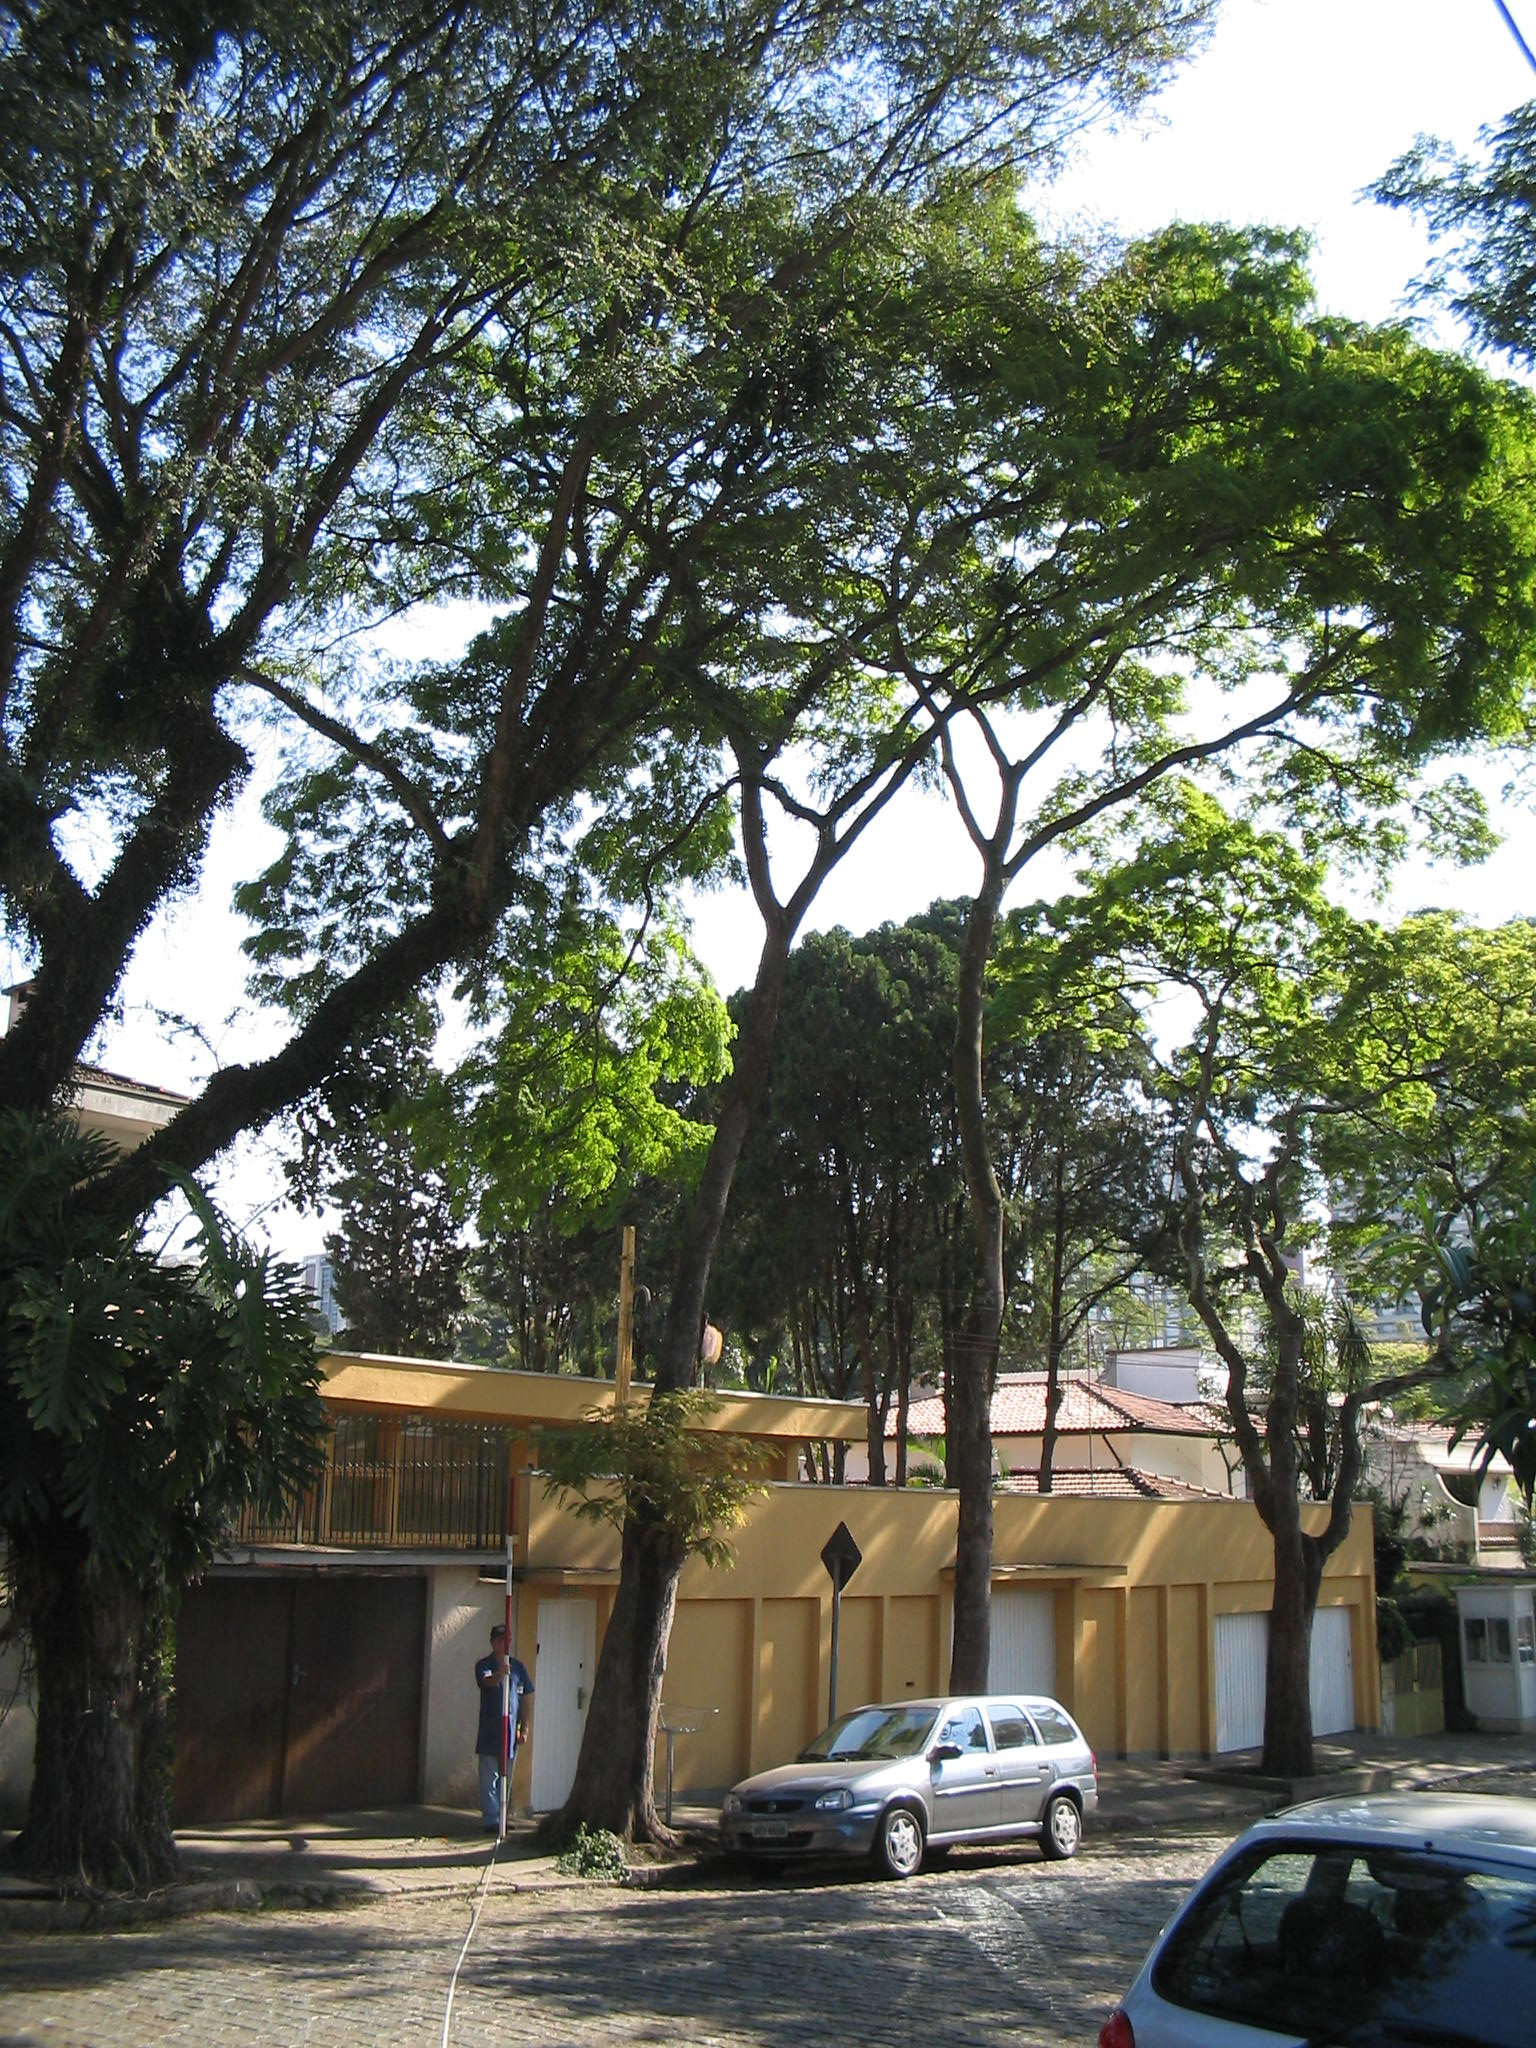crown: (511, 205, 1521, 811), (824, 211, 1525, 832)
stem: (549, 926, 816, 1832), (908, 882, 1037, 1829)
stick: (487, 1474, 523, 1834)
tree: (503, 203, 1521, 1837), (815, 205, 1526, 1829)
